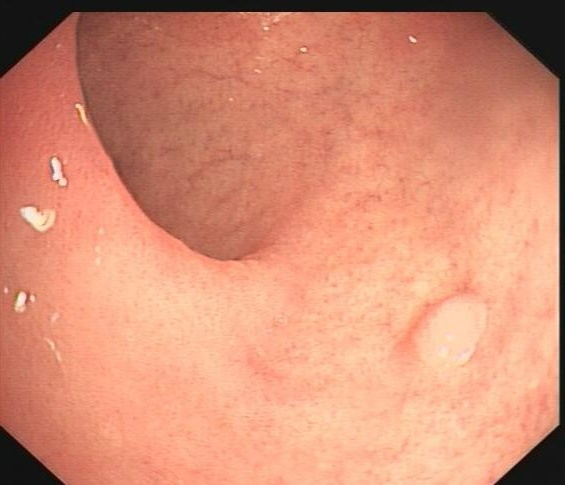Polyp: (406, 290, 493, 373)
